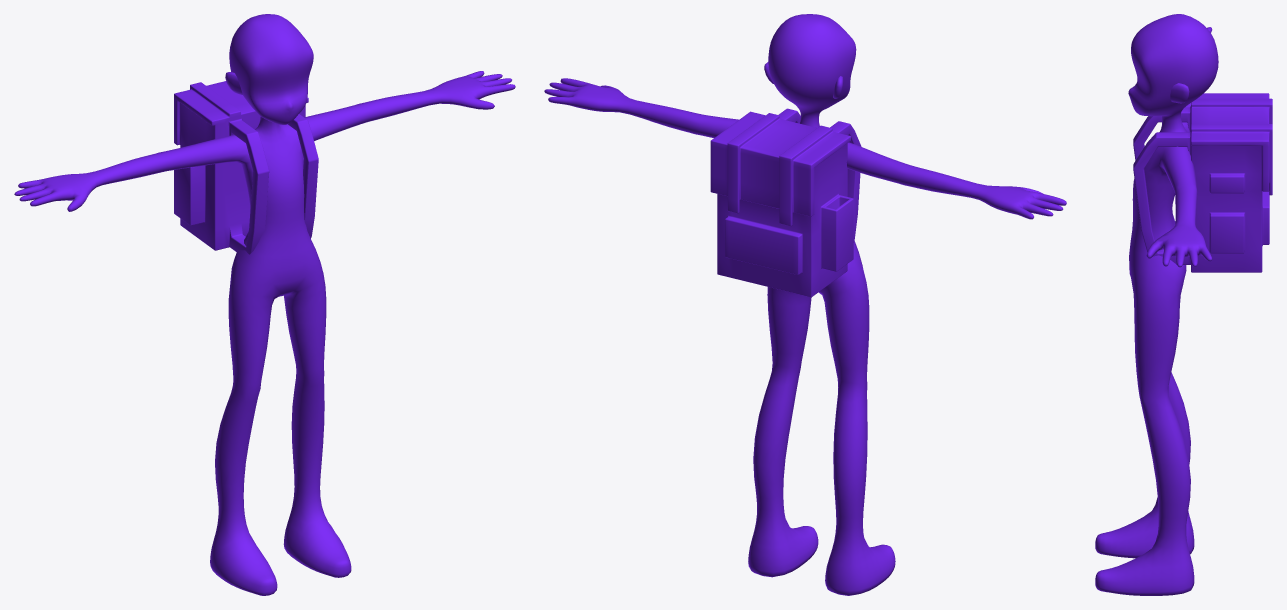
The model's file is Student.glb.
The picture shows the model from 3 angles, left to right: view 1: azimuth 30°, elevation 25°; view 2: azimuth 150°, elevation 25°; view 3: azimuth 270°, elevation 25°; orthographic projection. The views are drawn at different scales.
Parts seen in each view (by area): view 1: KeyframeChef_LowPoly_Base, Cube; view 2: KeyframeChef_LowPoly_Base, Cube; view 3: KeyframeChef_LowPoly_Base, Cube.
Part boxes in pixels (x1,y1,x2,y2): KeyframeChef_LowPoly_Base: (14, 14, 515, 595); Cube: (174, 81, 318, 254); KeyframeChef_LowPoly_Base: (544, 14, 1066, 595); Cube: (710, 108, 861, 297); KeyframeChef_LowPoly_Base: (1095, 14, 1218, 595); Cube: (1133, 93, 1272, 272).
Bounding box in the file's own units: 1.53 × 1.61 × 0.4692.
2 materials, 1 textured.
